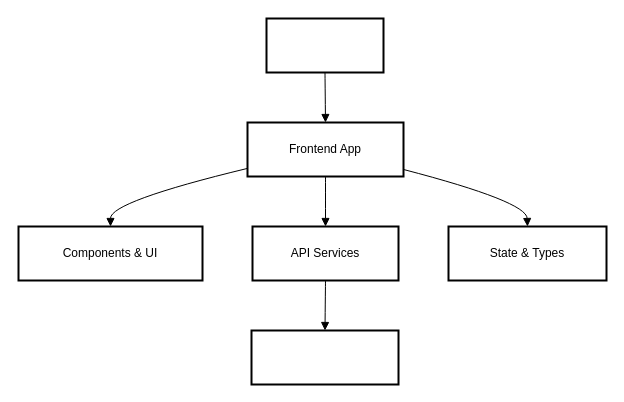
The diagram is 624 pixels wide and 402 high, and some of its shapes have lost their labels. The shapes that lost their labels are listed below. From the top down, each one's centre as x and y in pixels, then its label:
the point at 324,45: Browser
the point at 324,357: Backend API
